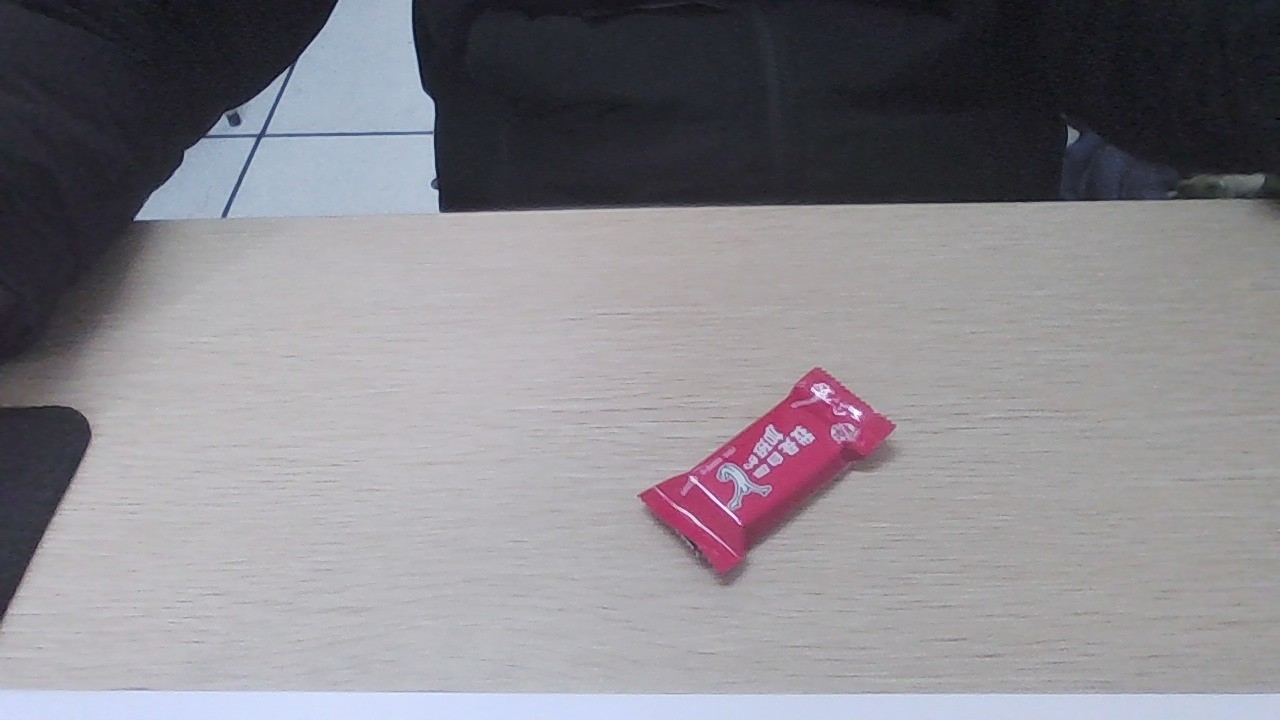CY-chocolate: (648, 371, 891, 564)
